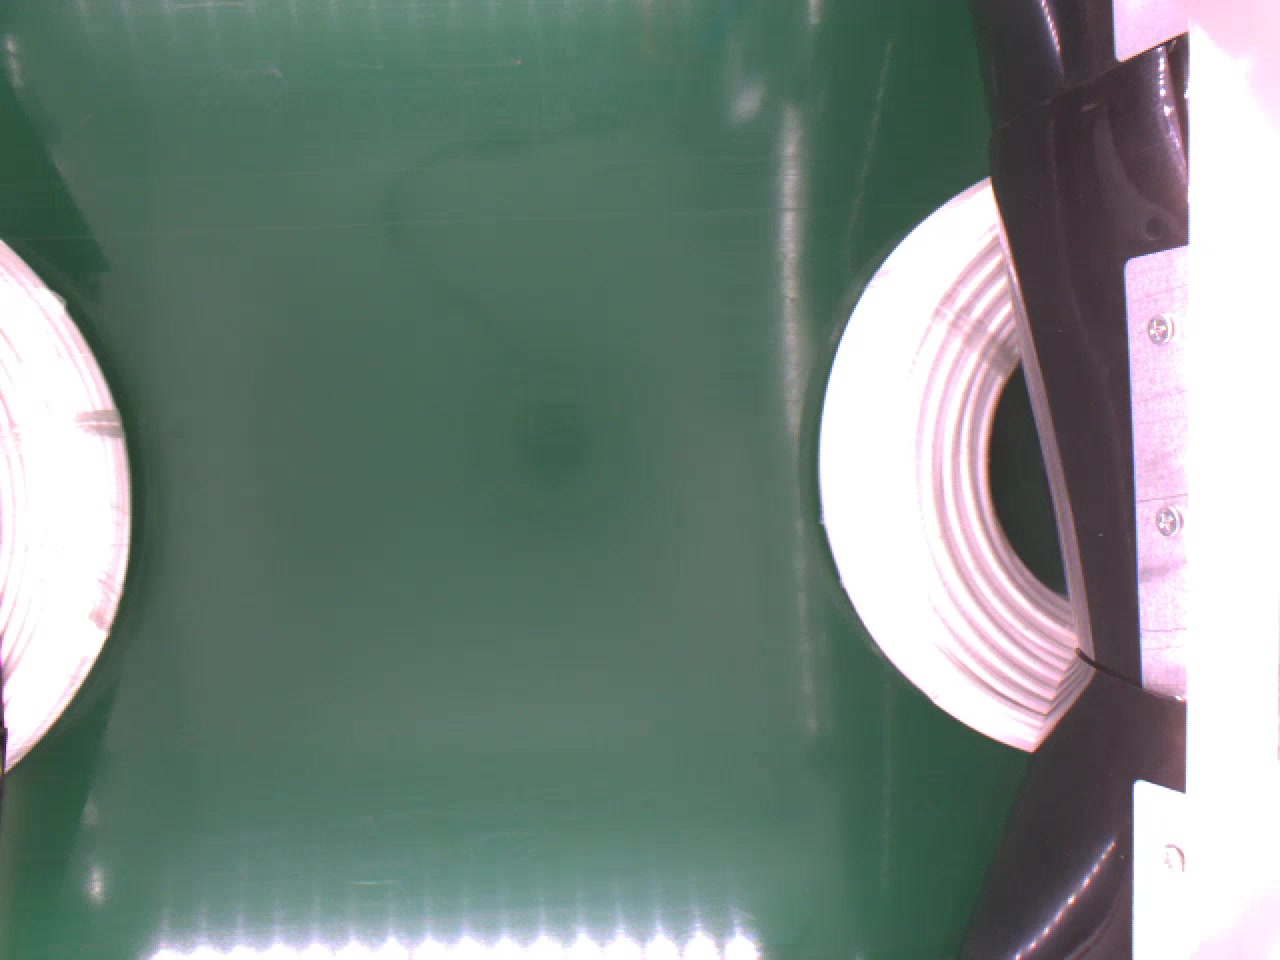white: (812, 169, 1075, 741), (0, 231, 136, 779)
